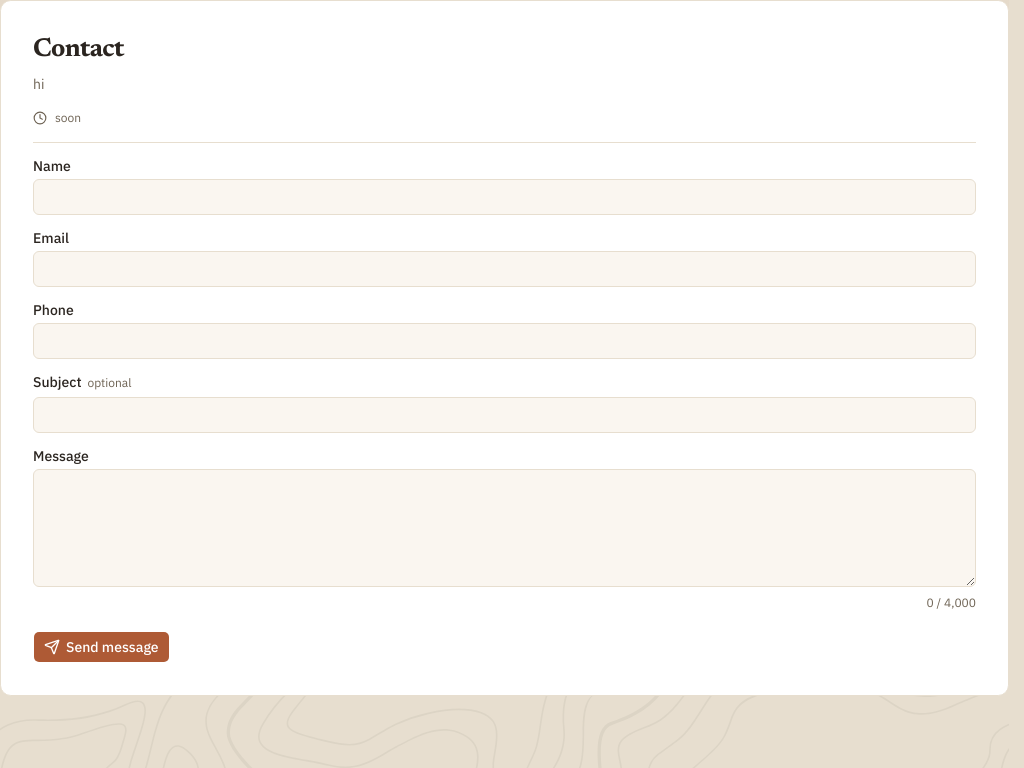
Test: ContactForm › preserves input and shows the error on server failure
Type "Alex" into the field labelled "Name" at (504, 197), box [33,179,976,215]
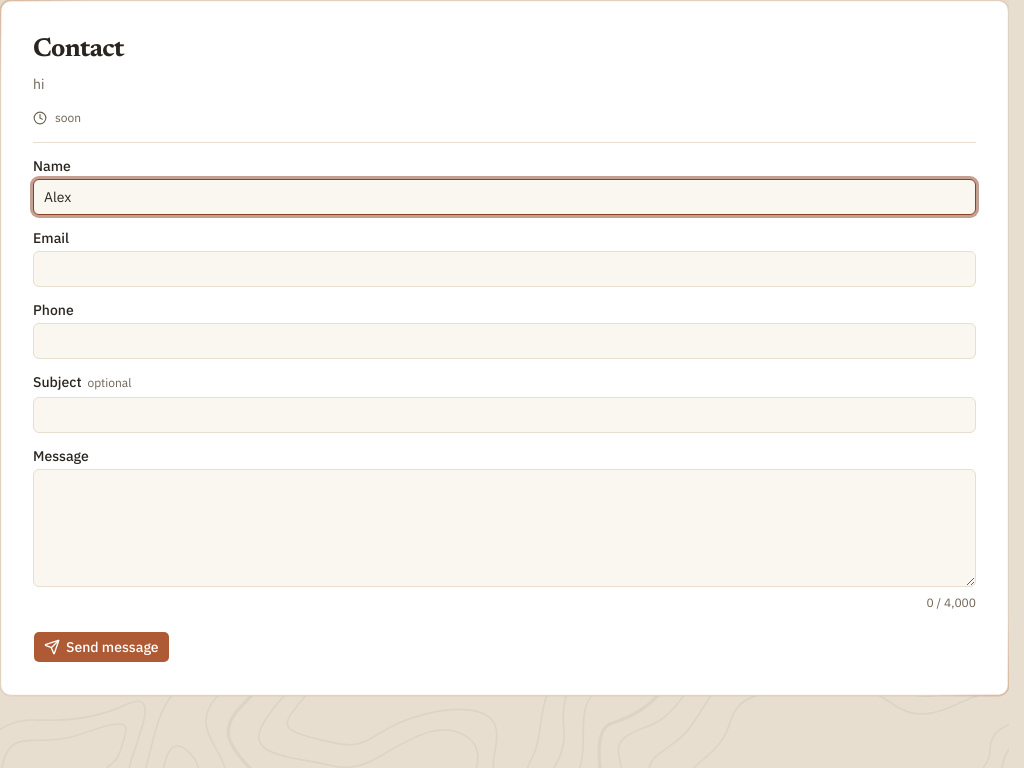
Type "a@b.com" into the field labelled "Email" at (504, 269), box [33,251,976,287]
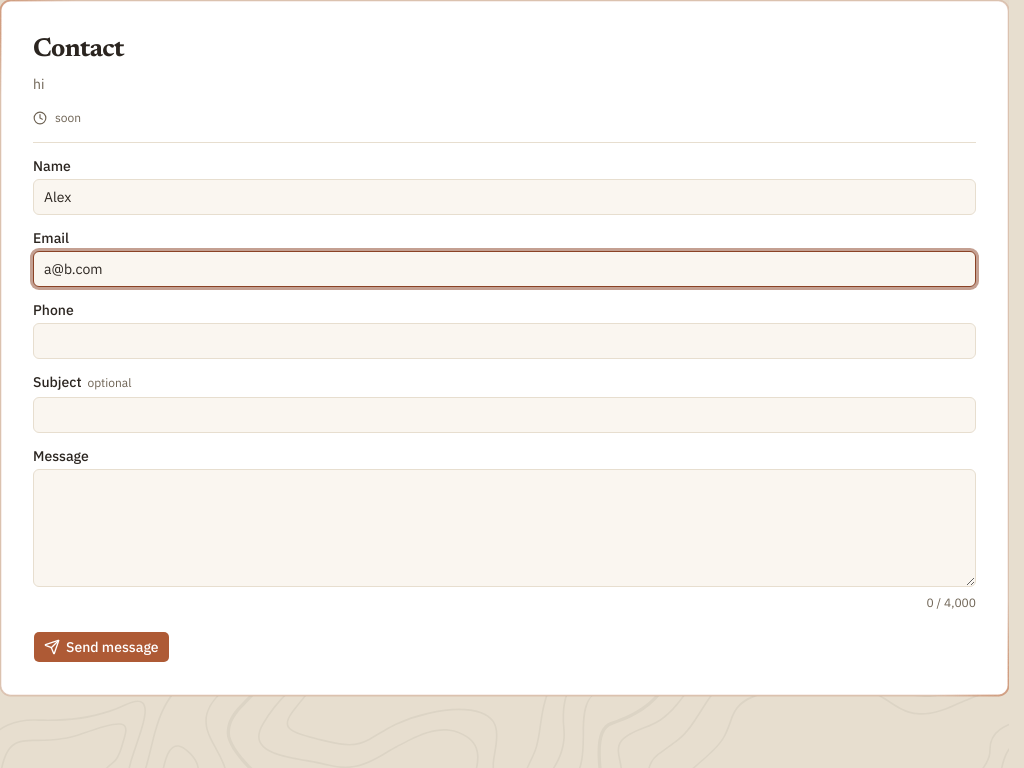
Type "3035551234" into the field labelled "Phone" at (504, 341), box [33,323,976,359]
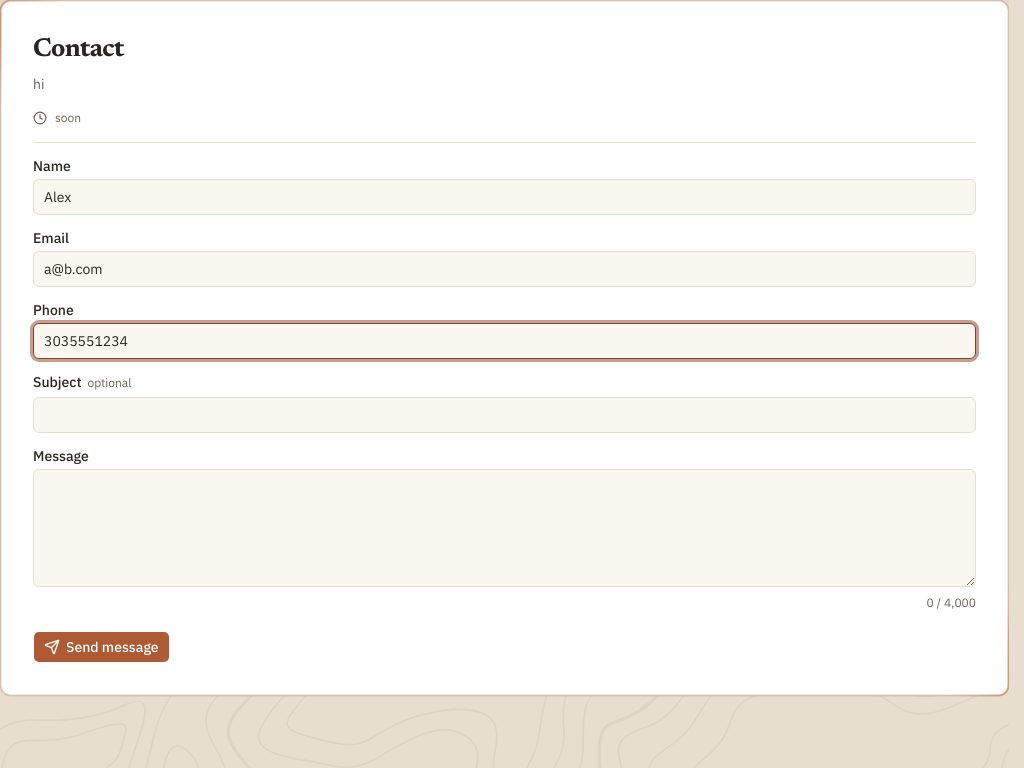
Type "Hello Cal" into the text box labelled "Message" at (504, 528), box [33,469,976,587]
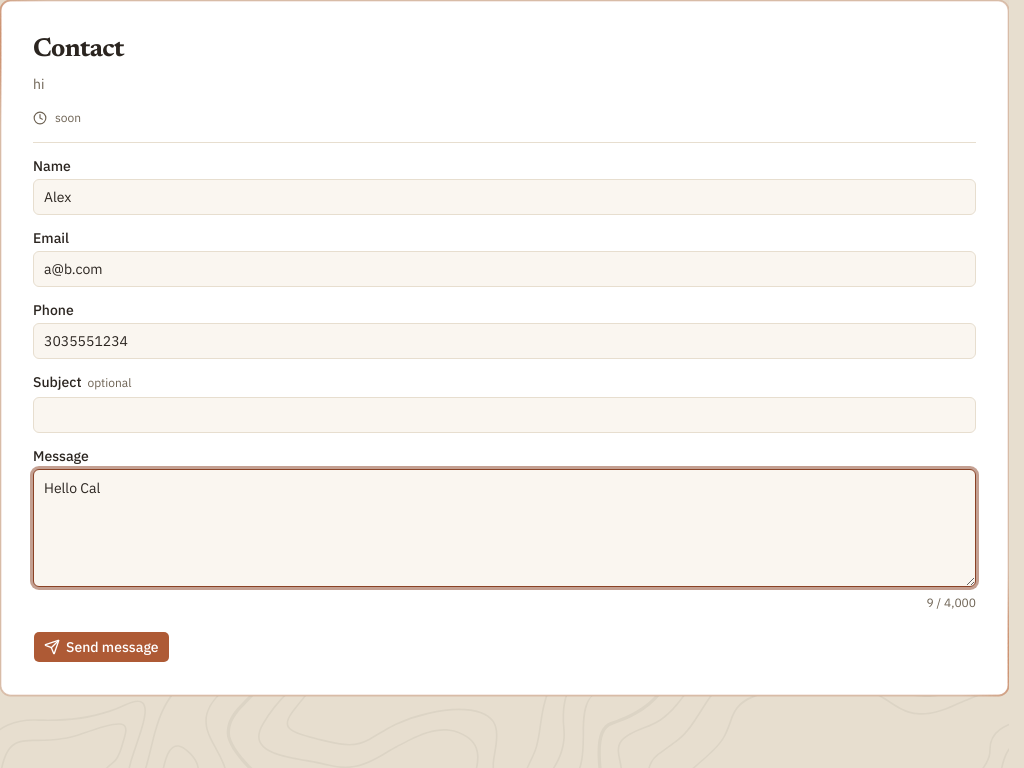
Click the button "Send message" at (101, 647), box [33,631,170,663]
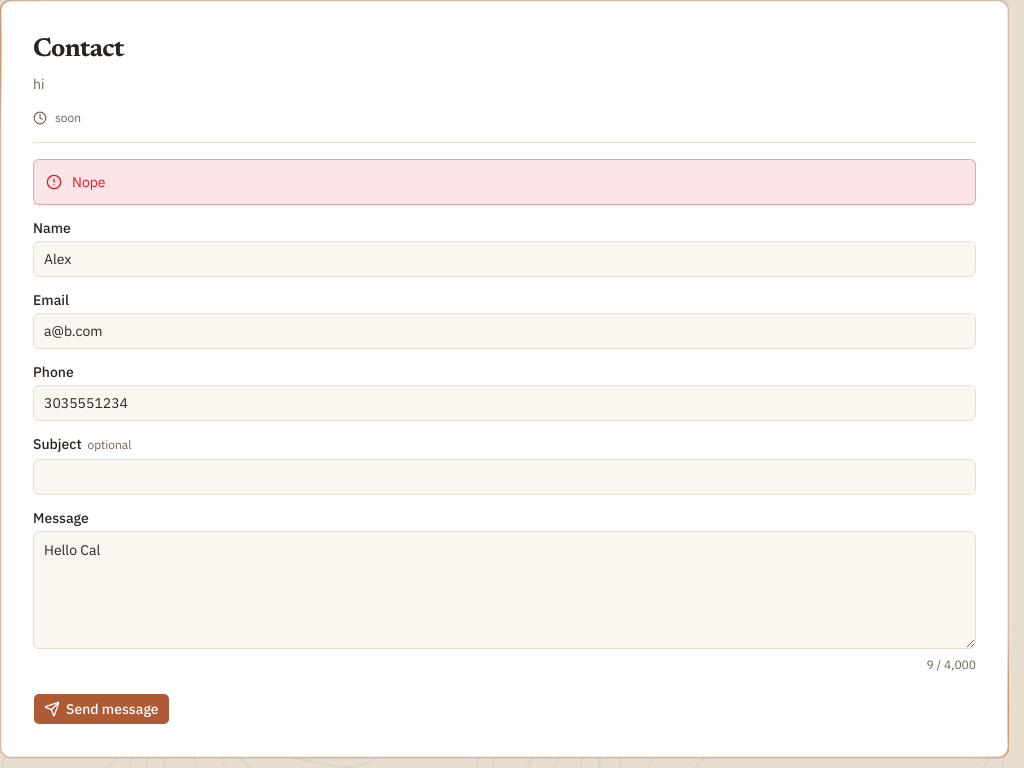
Check: the text "Nope" is shown, box [72,172,106,192]
